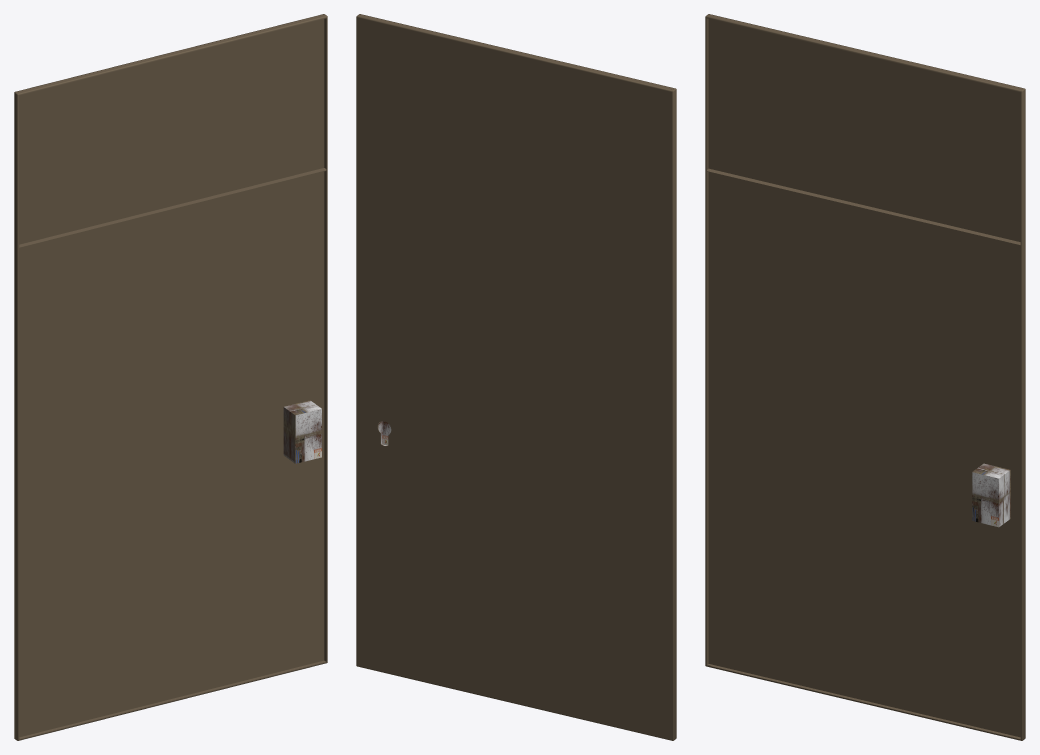
The model's file is elect door 4.fbx.
3 renders of one model, left to right at view 1: azimuth 30°, elevation 25°; view 2: azimuth 150°, elevation 25°; view 3: azimuth 330°, elevation 25°, orthographic.
Parts seen in each view (by area): view 1: Cube; view 2: Cube; view 3: Cube.
Boxes of the visible parts, left/top/right/bottom form: Cube: left=14, top=14, right=327, bottom=740; Cube: left=356, top=14, right=676, bottom=740; Cube: left=705, top=14, right=1025, bottom=740.
Bounding box in the file's own units: 75.96 × 150 × 5.15.
